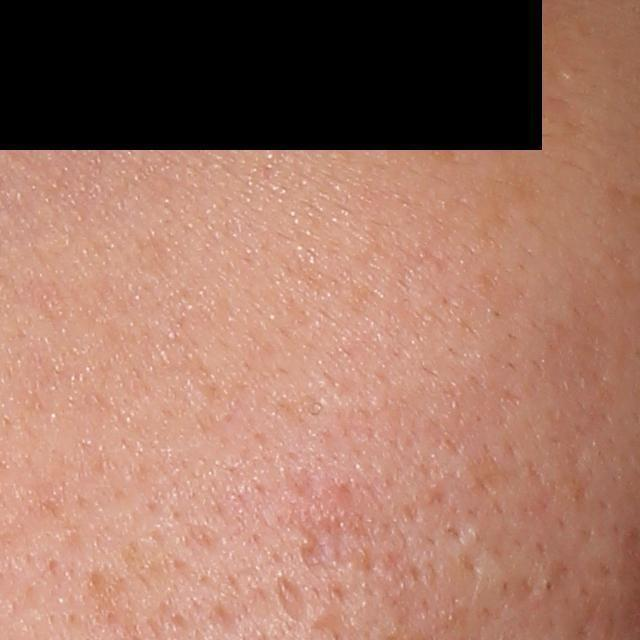atrophic_scar: (418, 121, 473, 168), (272, 573, 310, 624)
comedo: (537, 576, 556, 596)
